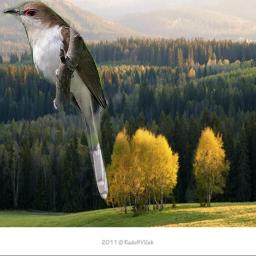Cuckoo: (1, 0, 110, 201)
